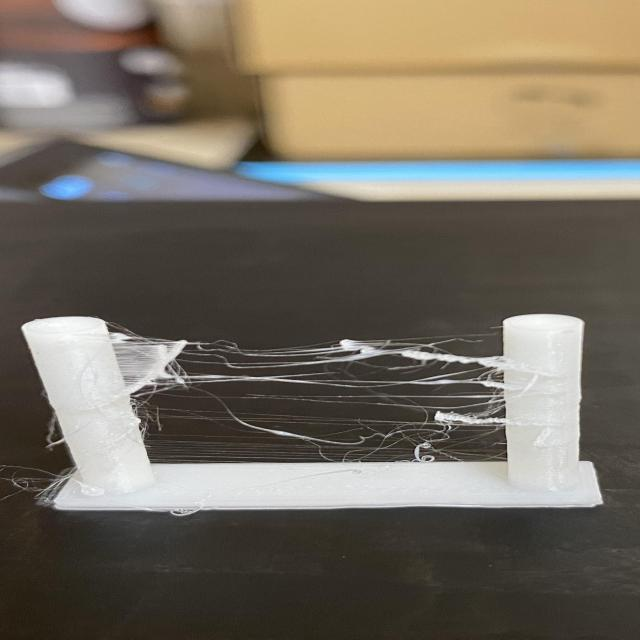Stringing: (124, 334, 504, 460)
